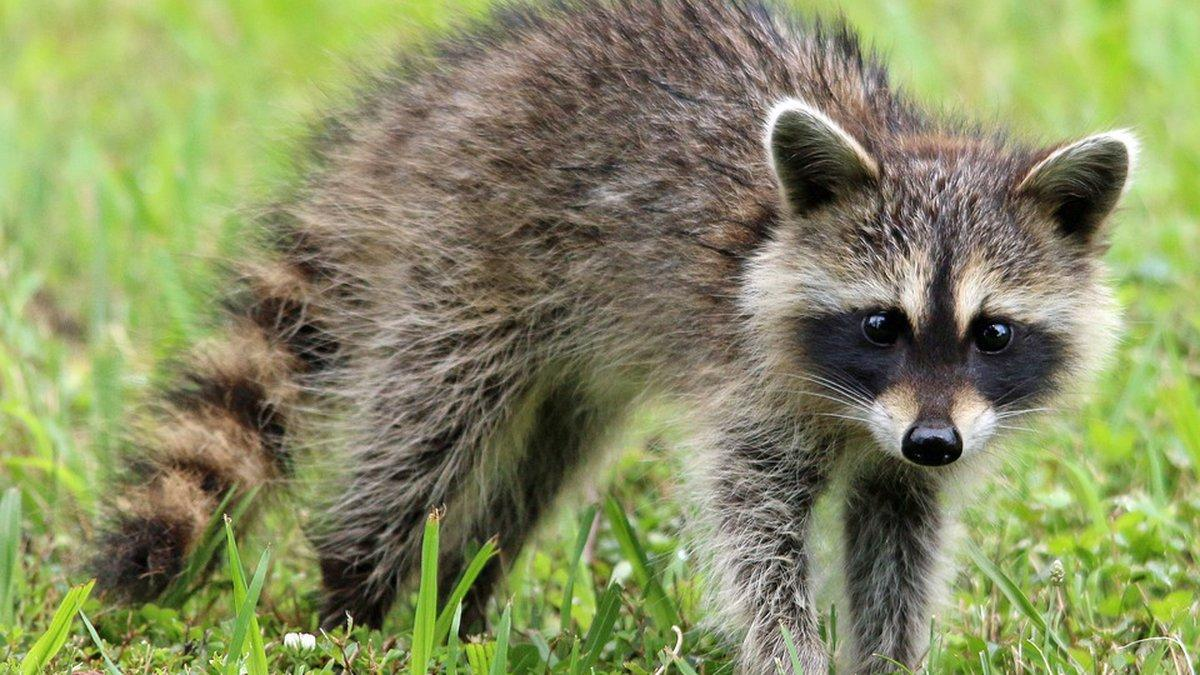raccoon: (102, 0, 1137, 675)
